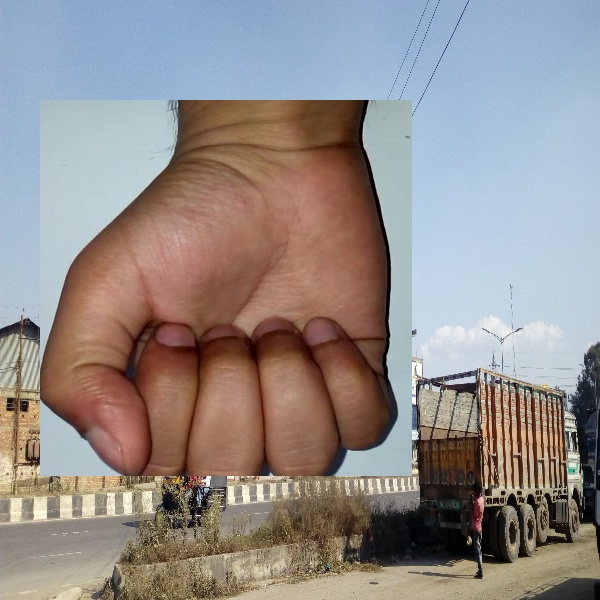A: (40, 100, 412, 476)
